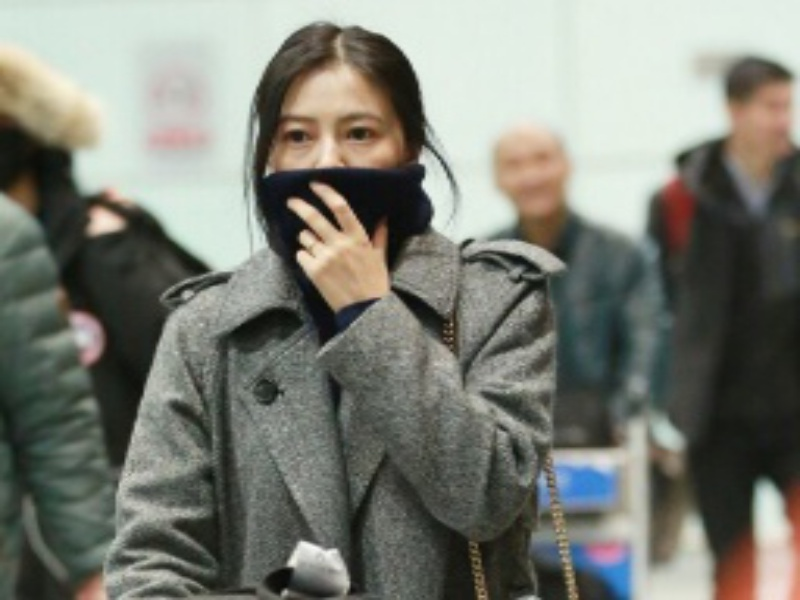ManaoArotava: (241, 28, 476, 310)
